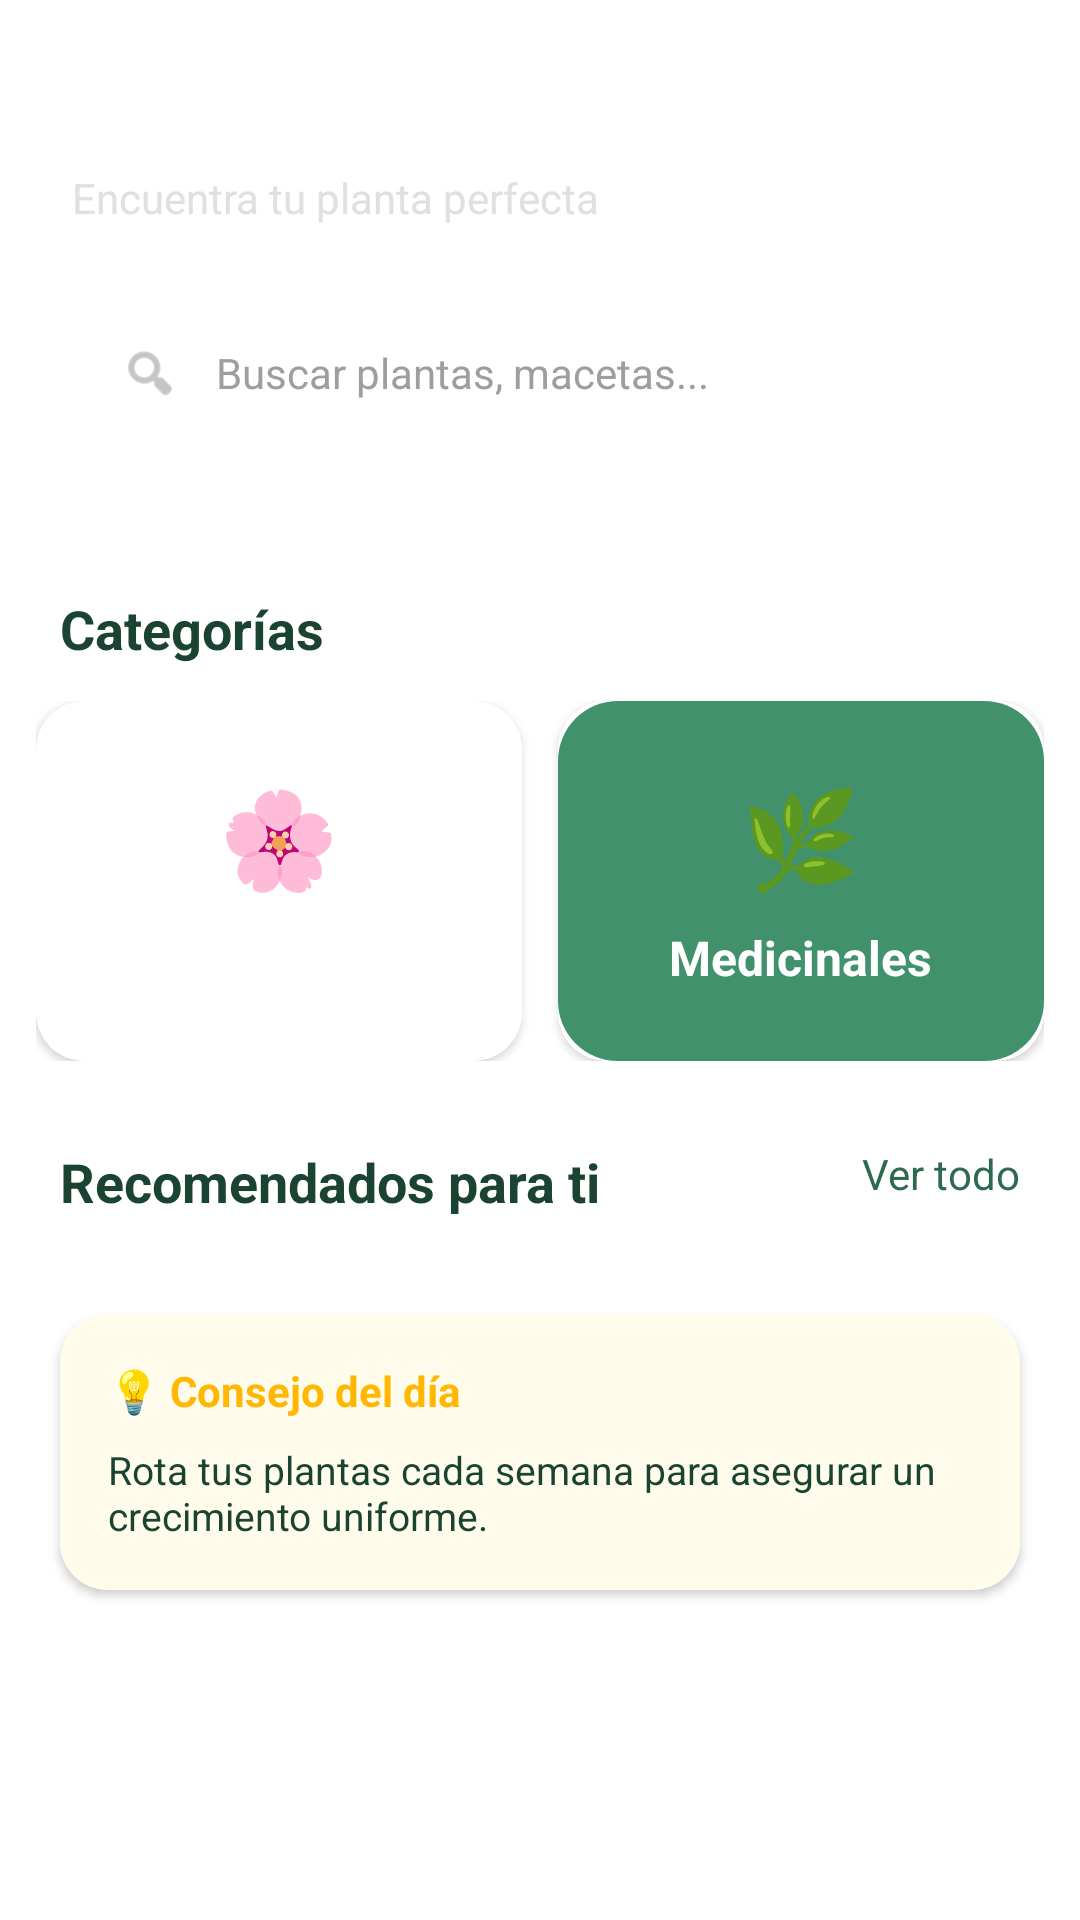

Where icons sit on this 1080px×1920px app screen, as (x1, y1, x2, y2):
search: (128, 351, 172, 395)
